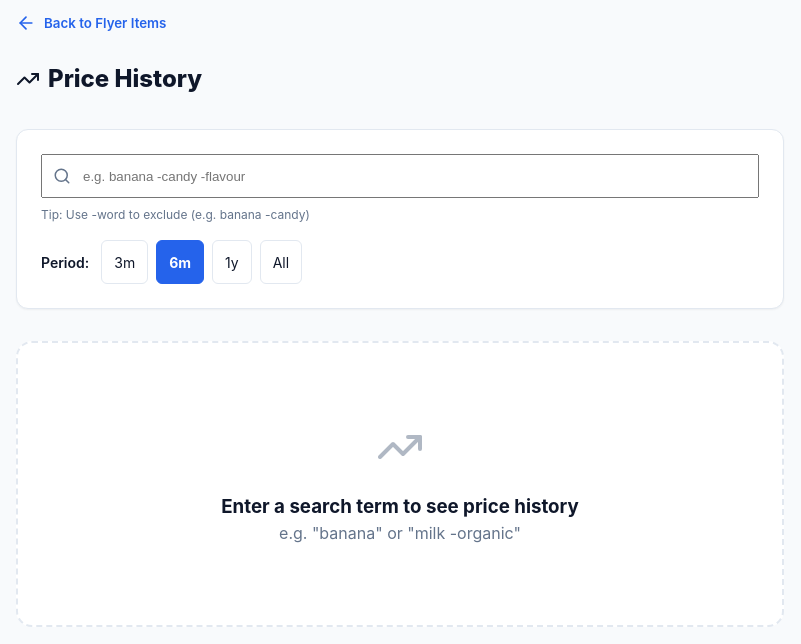
Test case: PriceHistoryPage › shows no results message when chart data is empty after search
This screenshot has width=801, height=644.
Type "xyz" into the field with placeholder "e.g. banana -candy -flavour" at [400, 176], box [41,154,759,198]
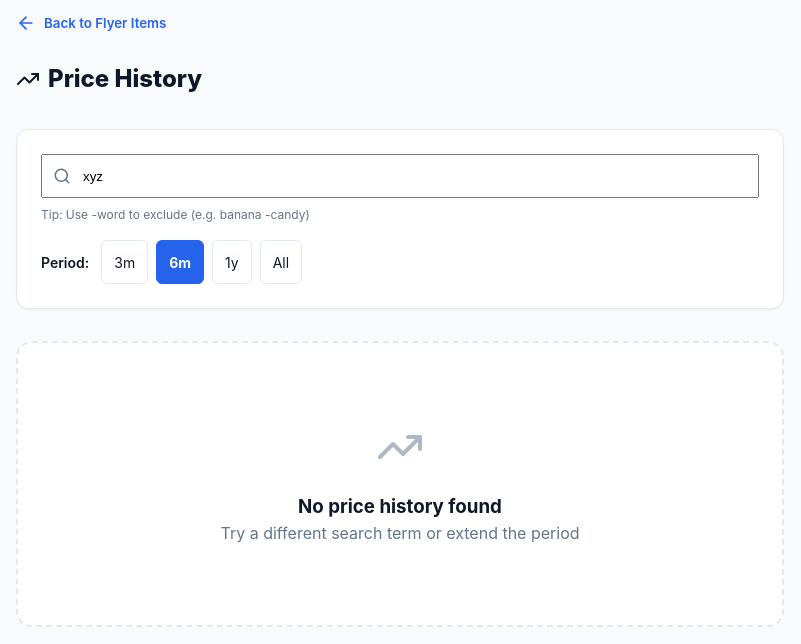
Result: the heading "No price history found" is shown at [298,495,502,518]
